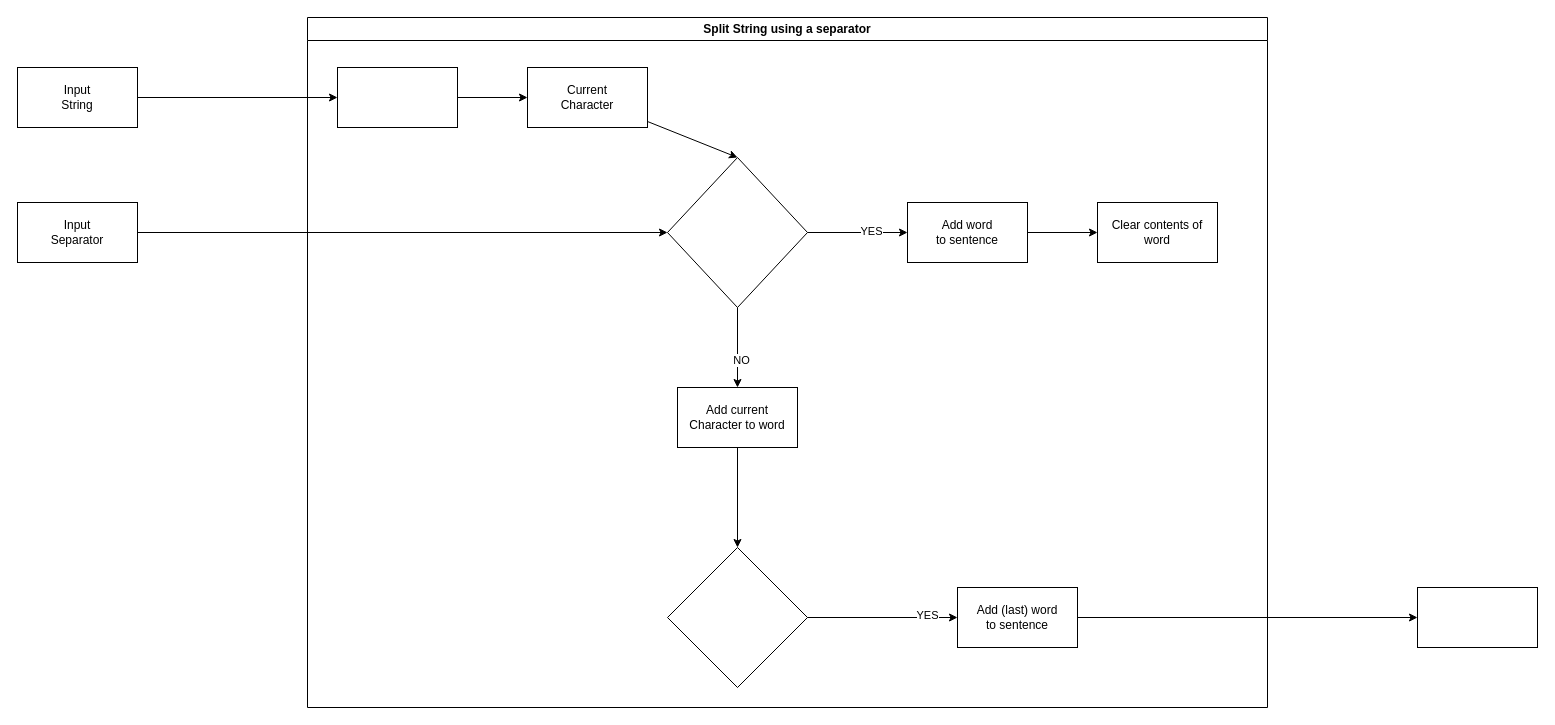
This 1555x725 diagram has some shape labels left out. The centre of each missing label's shape, as x and y in pixels:
Access one character by Index: the point at 397,97
Check if Current Character equals separator: the point at 737,232
Check if we have reached the end of the sentence: the point at 737,617
Output list of strings: the point at 1477,617
